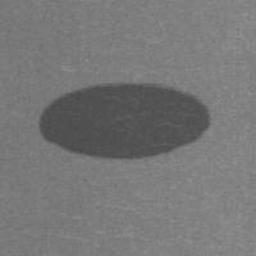Oil spot: (37, 81, 212, 161)
